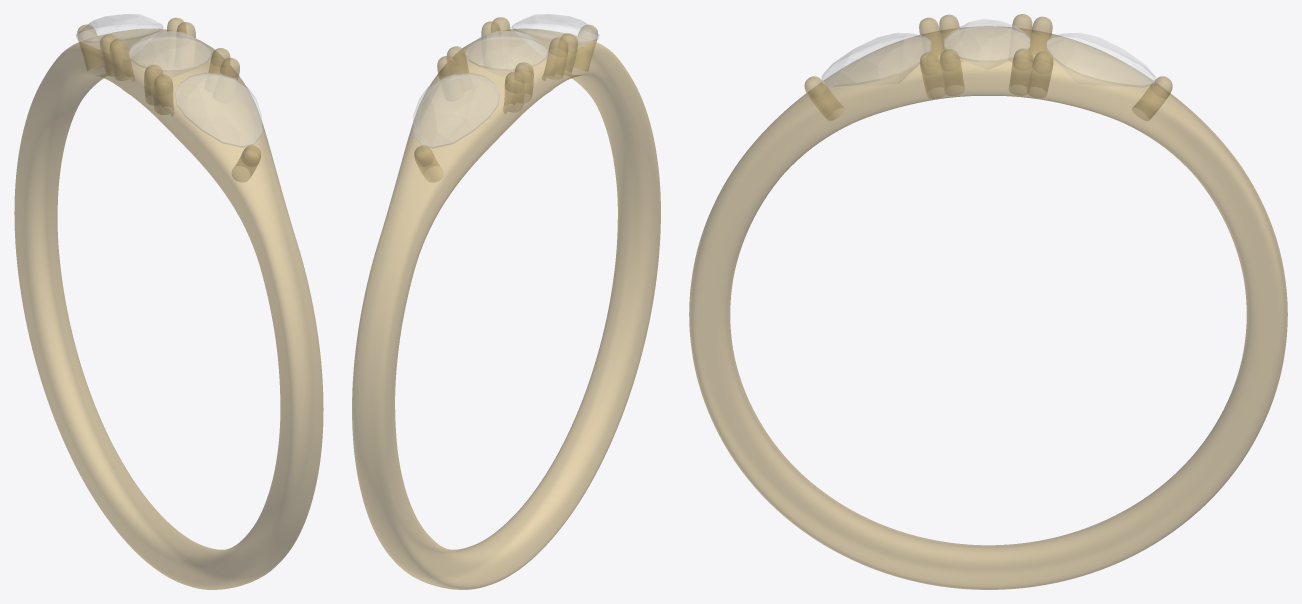
3 views of the same model, side by side, from view 1: azimuth 30°, elevation 25°; view 2: azimuth 150°, elevation 25°; view 3: azimuth 270°, elevation 25° (orthographic). The views are drawn at different scales.
Visible parts, largest first — view 1: ring, diamond; view 2: ring, diamond; view 3: ring, diamond.
Boxes of the visible parts, x1=… form: ring: x1=14, y1=17, x2=323, y2=589; diamond: x1=76, y1=14, x2=262, y2=147; ring: x1=352, y1=17, x2=660, y2=589; diamond: x1=412, y1=14, x2=599, y2=148; ring: x1=689, y1=14, x2=1287, y2=589; diamond: x1=822, y1=19, x2=1155, y2=87.
Bounding box in the file's own units: 0.4196 × 2.3 × 2.24.
